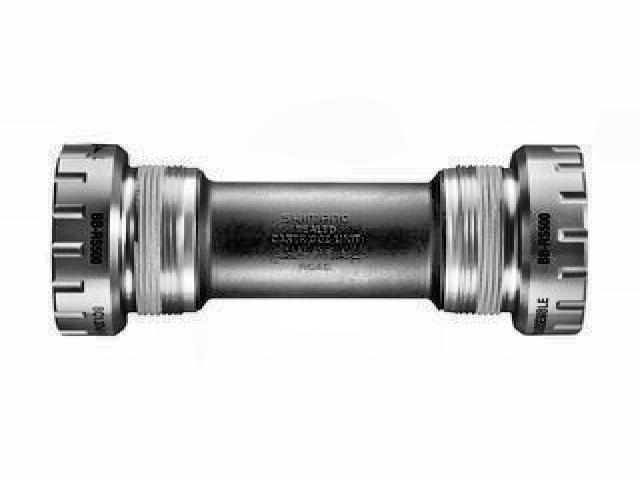bottom_bracket: (47, 137, 589, 339)
